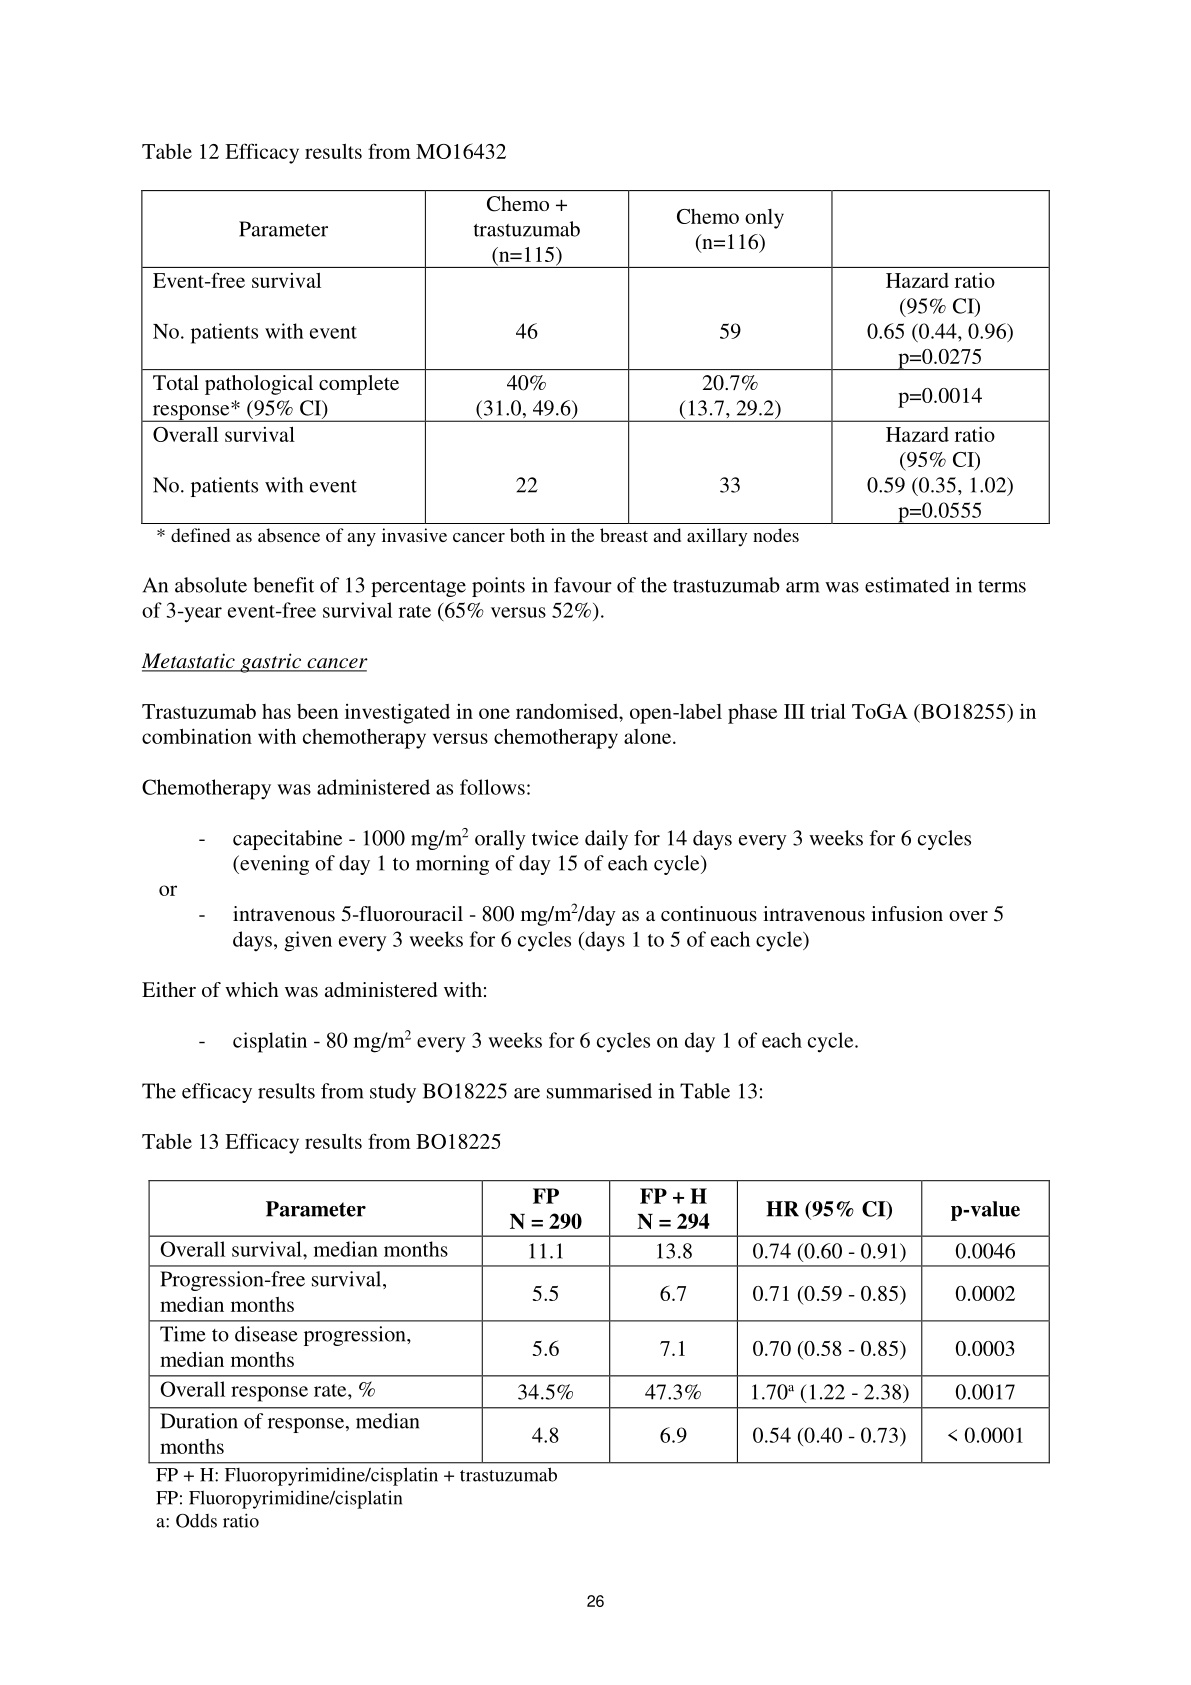full_lined: (139, 190, 1051, 525), (146, 1180, 1051, 1465)
